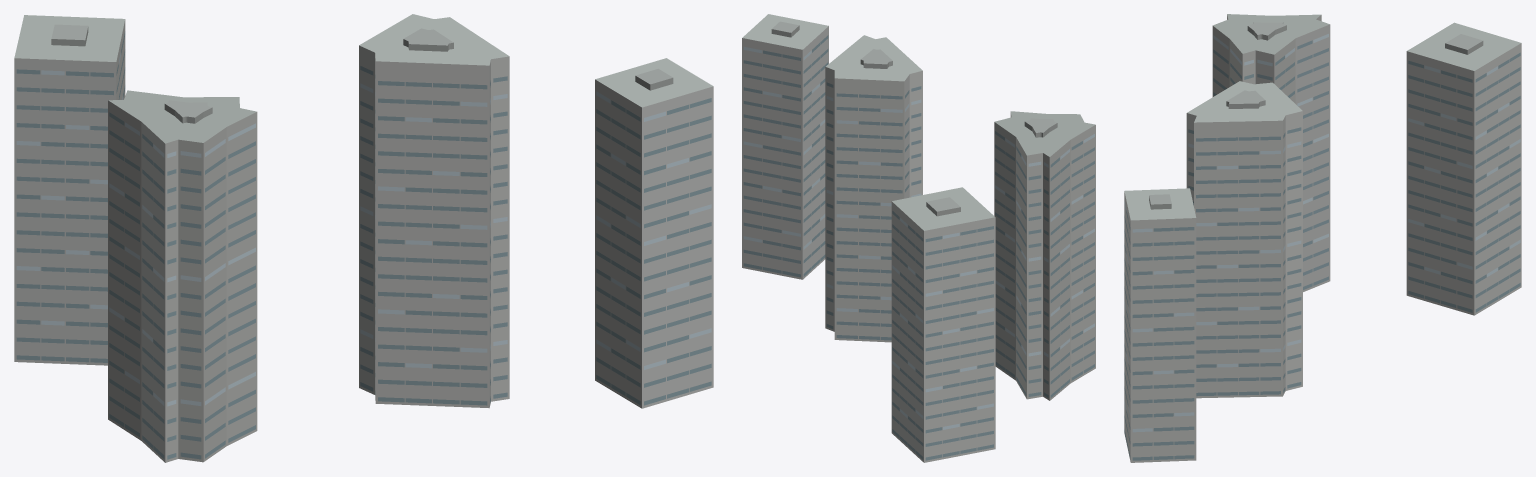
The model's file is apt-a14002501.glb.
3 renders of one model, left to right at view 1: azimuth 30°, elevation 25°; view 2: azimuth 150°, elevation 25°; view 3: azimuth 270°, elevation 25°, orthographic. The views are drawn at different scales.
Parts seen in each view (by area): view 1: apt-a14002501; view 2: apt-a14002501; view 3: apt-a14002501.
Boxes of the visible parts, x1,y1,x2,y2 form: apt-a14002501: (14, 14, 713, 462); apt-a14002501: (742, 14, 1095, 462); apt-a14002501: (1124, 14, 1521, 462).
Bounding box in the file's own units: 202 × 135 × 173.
